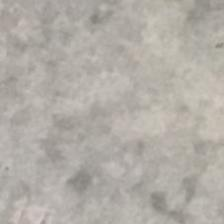Non_Crack: (5, 0, 224, 201)
